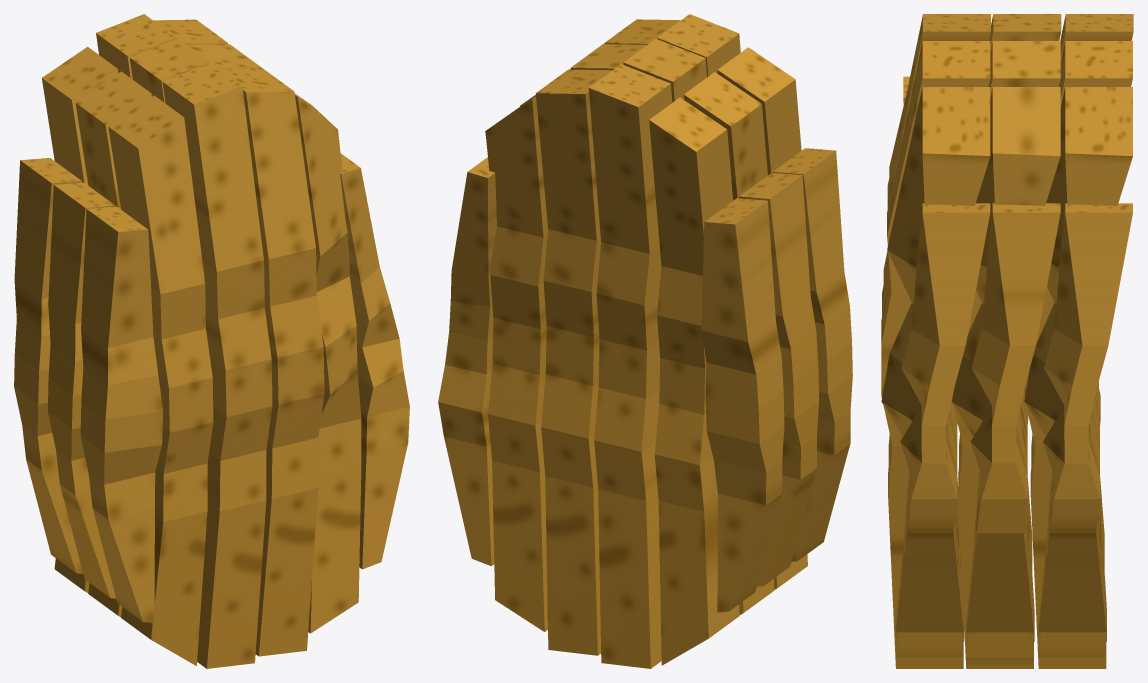
The model's file is SoyulmamıDilimliPatates.fbx.
3 views of the same model, side by side, from view 1: azimuth 30°, elevation 25°; view 2: azimuth 150°, elevation 25°; view 3: azimuth 270°, elevation 25° (orthographic). The views are drawn at different scales.
Parts seen in each view (by area): view 1: Cube.025, Cube.026, Cube.024, Cube.027, Cube.023, Cube.022, Cube.043, Cube.007, Cube.042, Cube.006, Cube.041, Cube.005 (+2 smaller); view 2: Cube.041, Cube.040, Cube.042, Cube.039, Cube.043, Cube.038, Cube.007, Cube.027, Cube.006, Cube.026, Cube.005, Cube.025 (+2 smaller); view 3: Cube.002, Cube.022, Cube.038, Cube.023, Cube.039, Cube.003, Cube.024, Cube.040, Cube.004, Cube.025, Cube.041, Cube.005.
Boxes of the visible parts, bbox=[...] form: Cube.025: bbox=[162, 62, 272, 668]; Cube.026: bbox=[108, 95, 213, 665]; Cube.024: bbox=[220, 68, 324, 656]; Cube.027: bbox=[80, 206, 163, 622]; Cube.023: bbox=[294, 93, 361, 633]; Cube.022: bbox=[340, 153, 409, 569]; Cube.043: bbox=[14, 158, 83, 573]; Cube.007: bbox=[47, 182, 115, 598]; Cube.042: bbox=[42, 46, 118, 592]; Cube.006: bbox=[75, 71, 151, 617]; Cube.041: bbox=[96, 14, 175, 79]; Cube.005: bbox=[130, 39, 209, 103]; Cube.041: bbox=[588, 64, 672, 668]; Cube.040: bbox=[535, 69, 611, 655]; Cube.042: bbox=[649, 97, 739, 665]; Cube.039: bbox=[485, 96, 547, 631]; Cube.043: bbox=[701, 198, 784, 612]; Cube.038: bbox=[438, 157, 496, 566]; Cube.007: bbox=[739, 172, 819, 586]; Cube.027: bbox=[772, 148, 852, 561]; Cube.006: bbox=[684, 72, 774, 614]; Cube.026: bbox=[717, 47, 807, 589]; Cube.005: bbox=[623, 39, 706, 102]; Cube.025: bbox=[657, 14, 740, 76]; Cube.002: bbox=[966, 203, 1060, 632]; Cube.022: bbox=[896, 203, 990, 632]; Cube.038: bbox=[1038, 203, 1132, 632]; Cube.023: bbox=[881, 87, 990, 657]; Cube.039: bbox=[1024, 87, 1132, 657]; Cube.003: bbox=[952, 87, 1060, 657]; Cube.024: bbox=[881, 41, 990, 668]; Cube.040: bbox=[1024, 41, 1132, 668]; Cube.004: bbox=[952, 41, 1060, 668]; Cube.025: bbox=[882, 14, 990, 641]; Cube.041: bbox=[1031, 14, 1133, 641]; Cube.005: bbox=[959, 14, 1061, 641].
Bounding box in the file's own units: 106 × 185 × 69.44.
